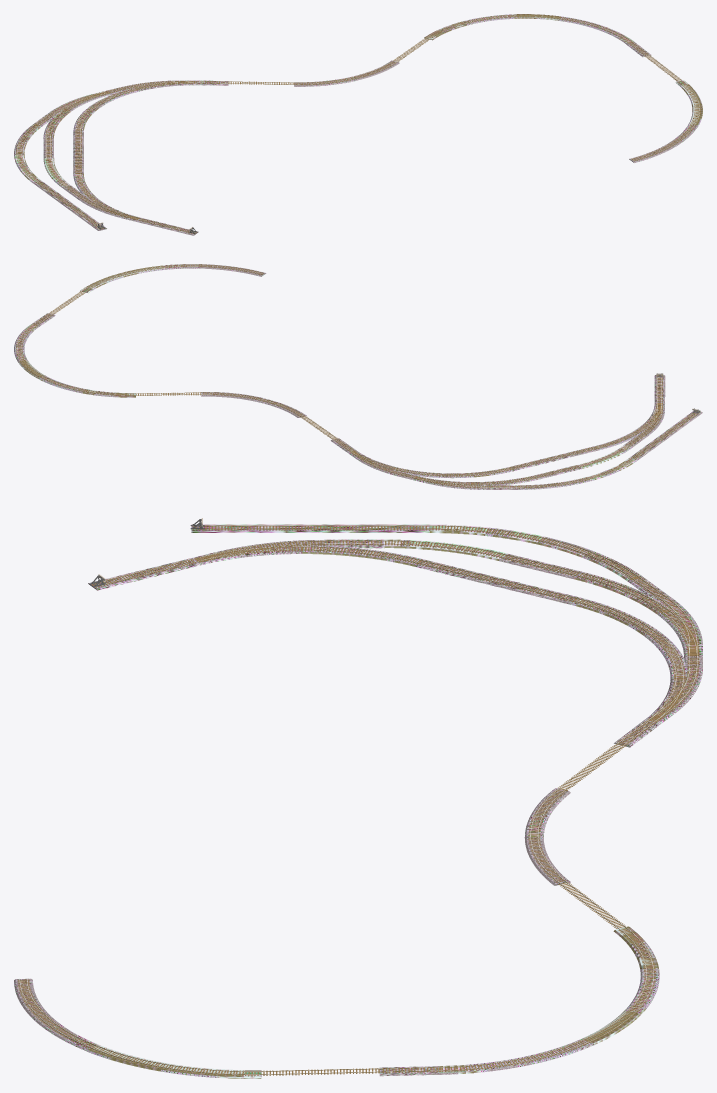
File: GMLID_21614432_375009_394.gltf
3 renders of one model, top to bottom at view 1: azimuth 30°, elevation 25°; view 2: azimuth 150°, elevation 25°; view 3: azimuth 270°, elevation 25°, orthographic. The views are drawn at different scales.
Visible parts, largest first — view 1: Z_UP; view 2: Z_UP; view 3: Z_UP.
Boxes of the visible parts, <box> form: Z_UP: <box>14,14,702,235</box>; Z_UP: <box>14,264,702,489</box>; Z_UP: <box>14,518,702,1078</box>.
Size of the model in its own units: 350 by 10.74 by 191.
7 materials, 1 textured.
